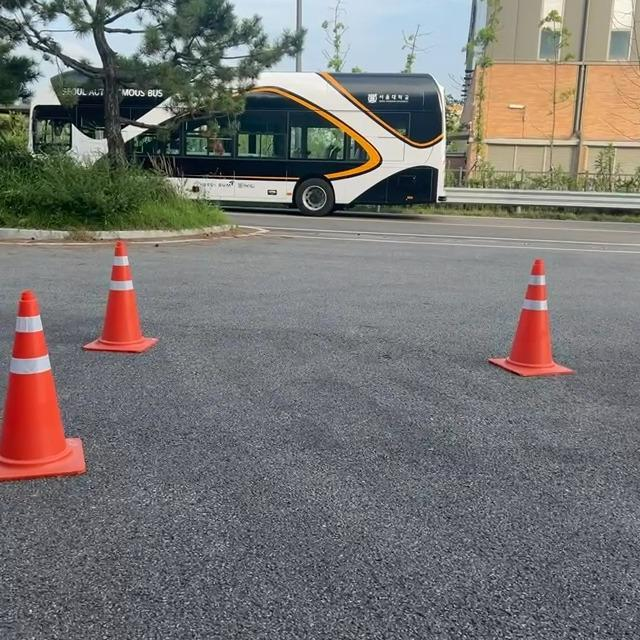fallen_object: (421, 227, 640, 429), (3, 285, 140, 520), (66, 217, 181, 380)
